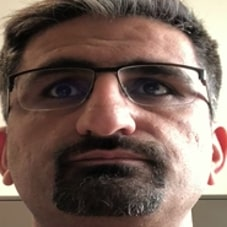awake: (27, 49, 199, 193)
